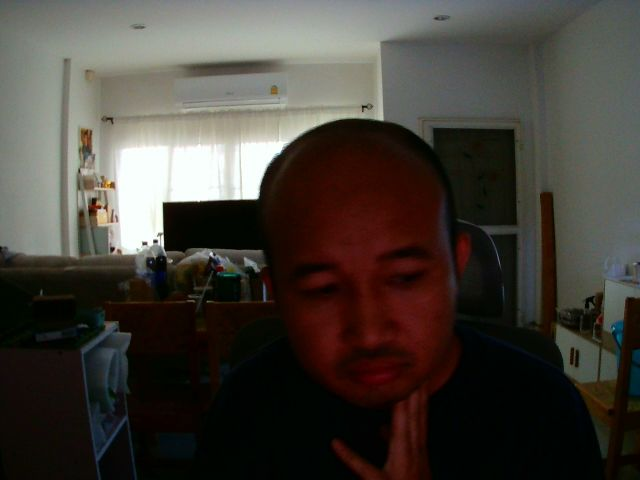face: (258, 119, 459, 408)
